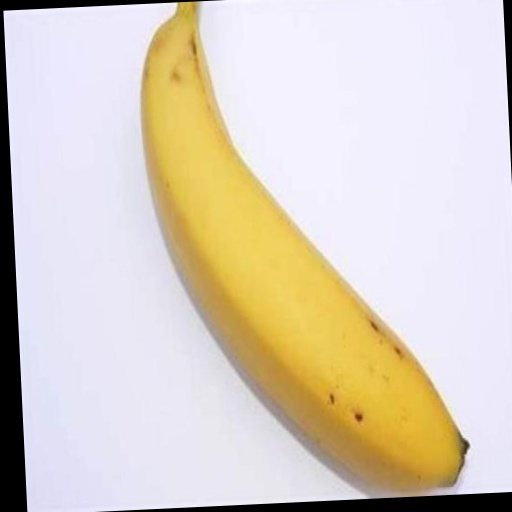fruit: (141, 2, 467, 489)
